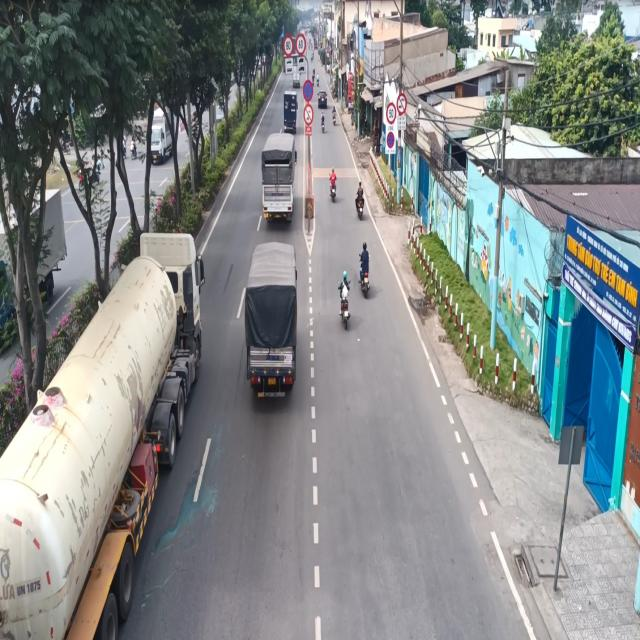motor: (336, 265, 354, 329), (358, 238, 372, 305), (352, 180, 369, 223), (329, 167, 340, 208)
truck: (0, 216, 206, 640), (246, 232, 306, 416), (259, 120, 300, 228)
